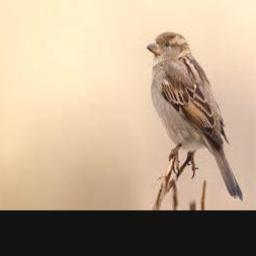Sparrow: (146, 33, 243, 200)
